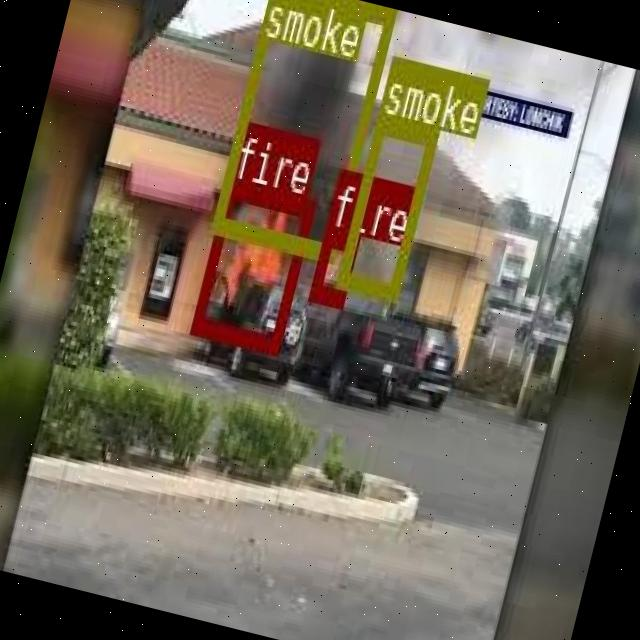fire: (189, 177, 315, 350), (307, 226, 358, 304)
smoke: (209, 0, 394, 260), (334, 112, 438, 300)
